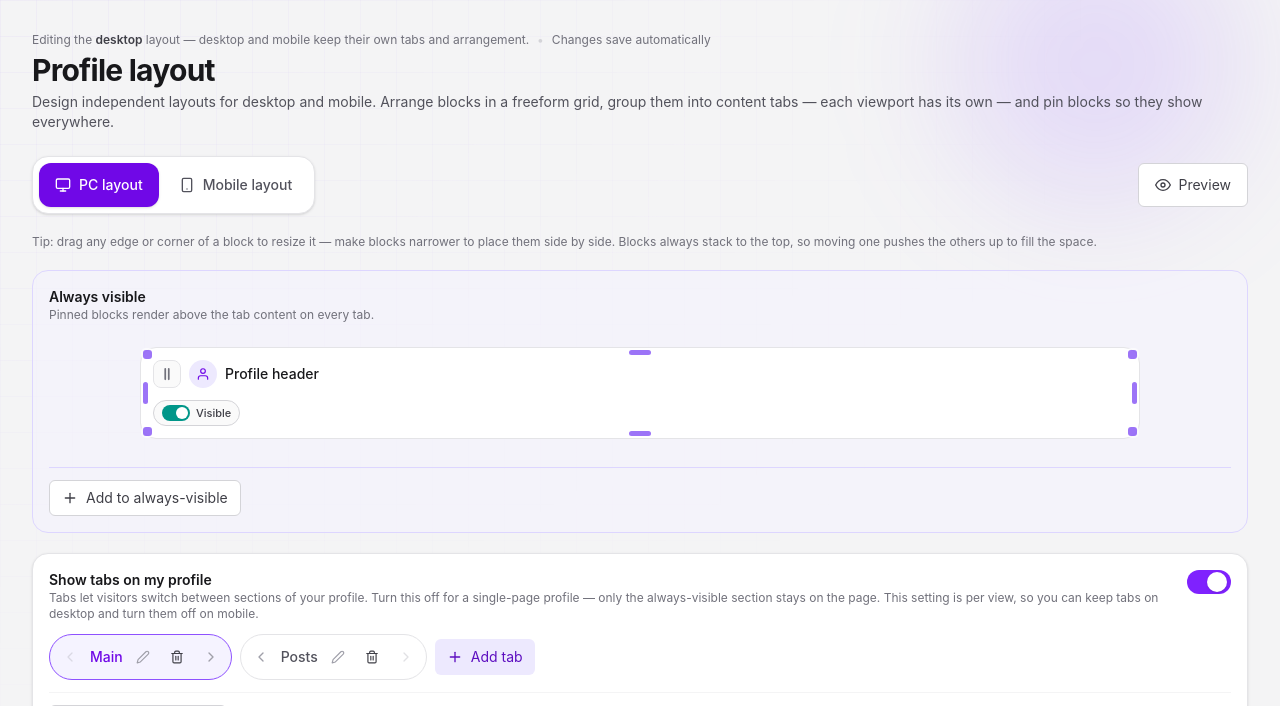
ProfileLayoutPage — the per-viewport tabs switch › turning tabs off for mobile leaves the pc layout's tabs on
Click the button "Mobile layout" at x=236, y=185, box [163,163,308,207]
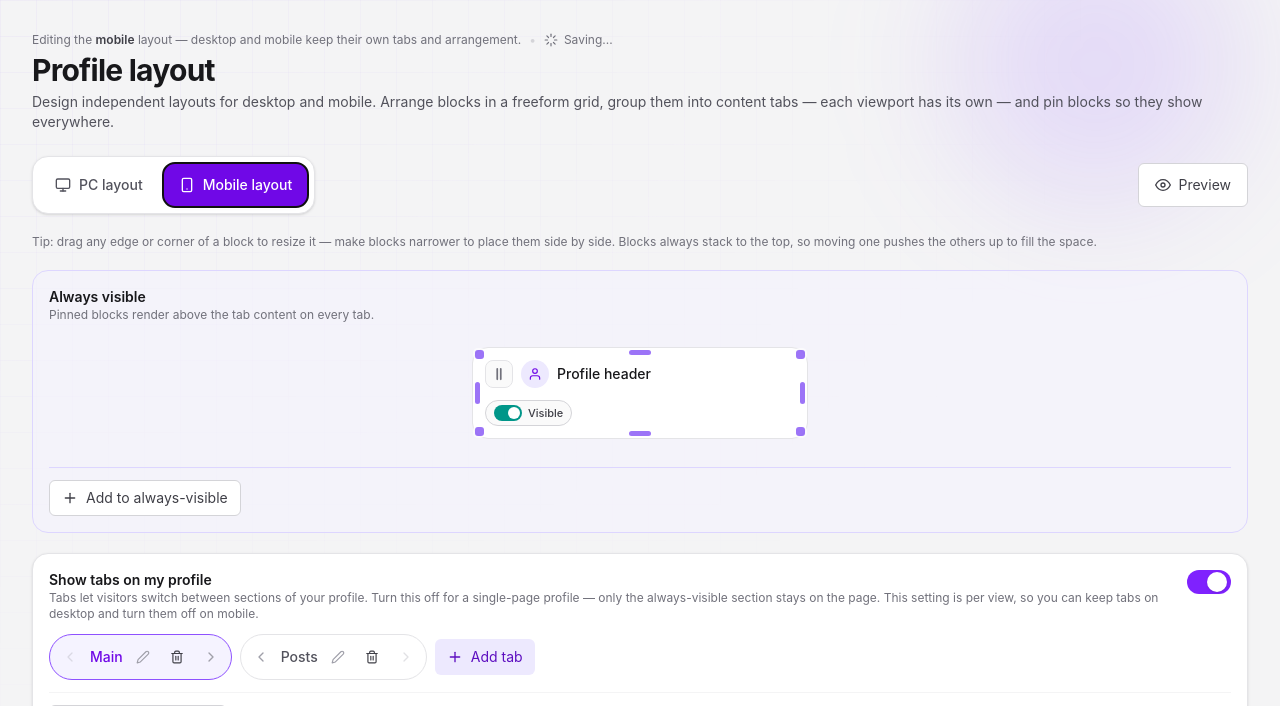
Click the switch named "Show tabs on my profile" at x=1209, y=582, box [1187,570,1231,594]
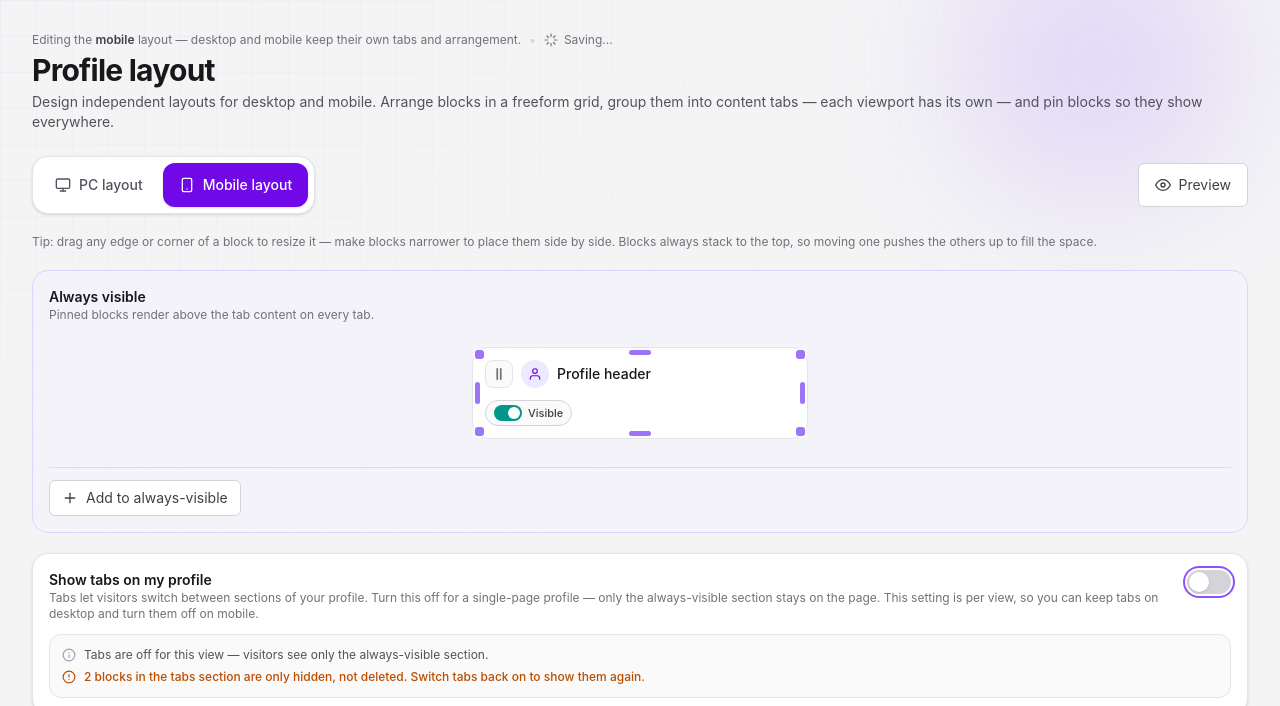
Click the button "PC layout" at x=99, y=185, box [39,163,159,207]
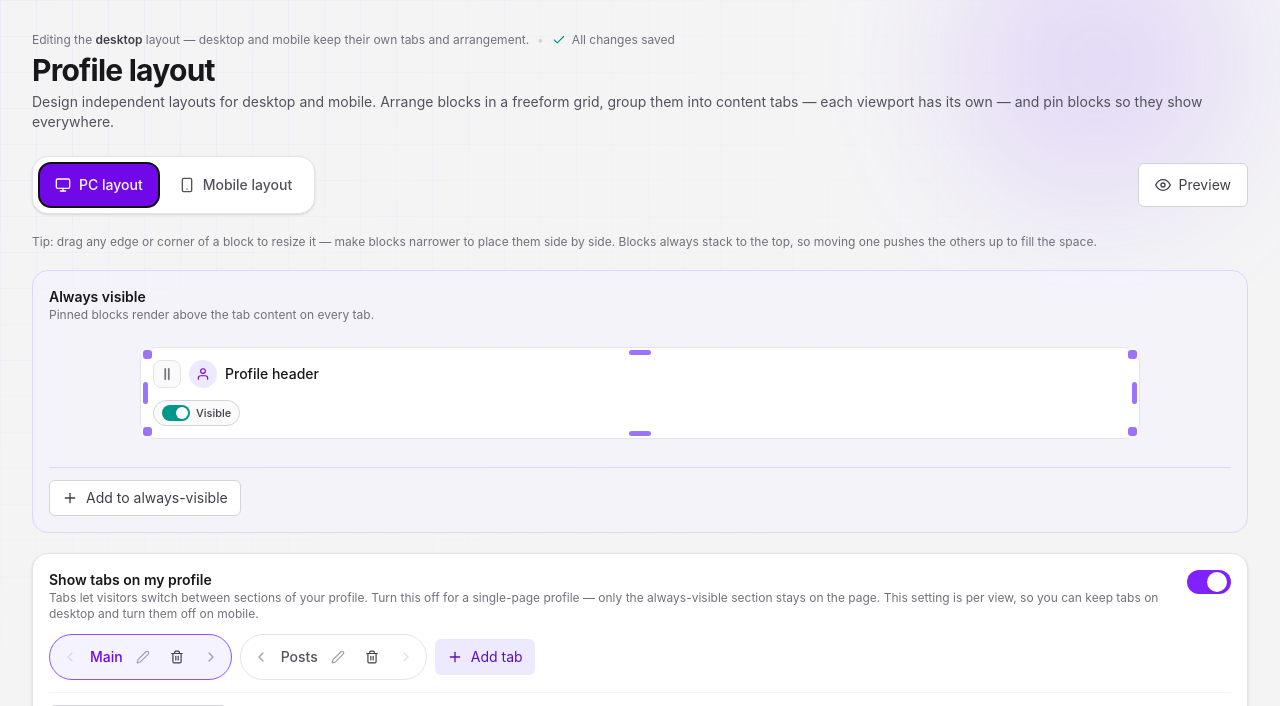
Check: the switch named "Show tabs on my profile" is checked, box [1187,570,1231,594]
Check: the button "Add tab" is shown, box [435,639,535,675]
